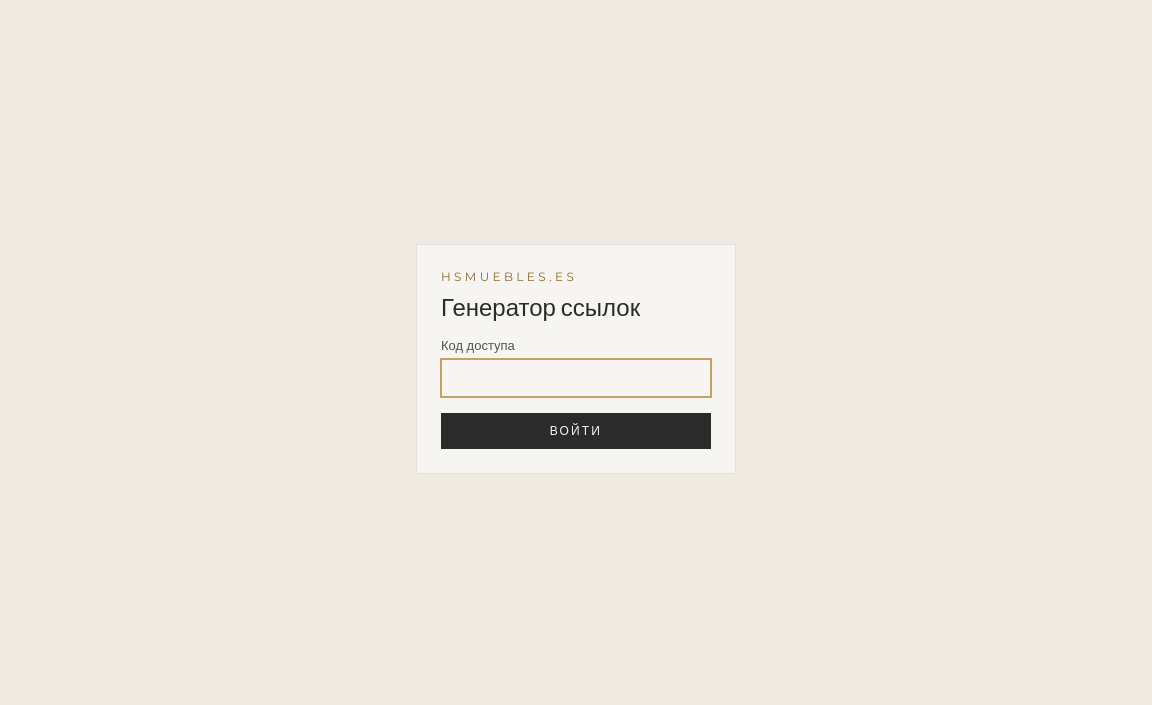
Scenario: UtmBuilder — код доступа › с верным кодом открывает генератор
Type "777111" into the password field labelled "Код доступа" at (576, 378), box [441, 359, 711, 397]
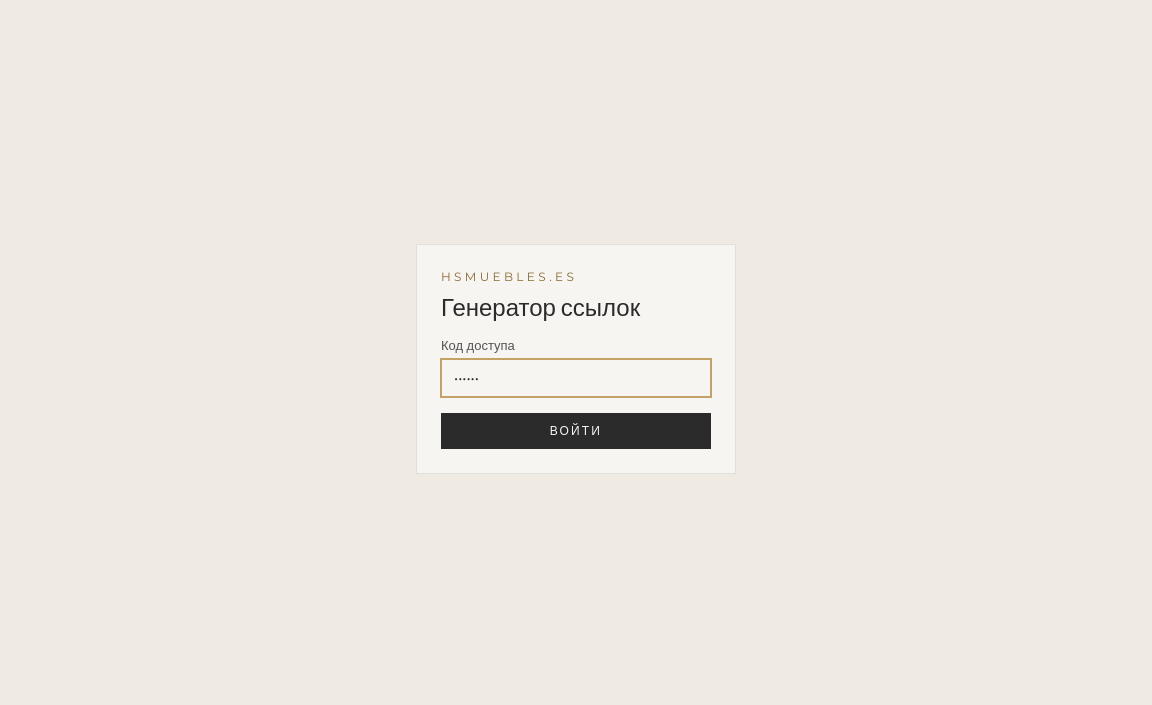
Click the button "Войти" at (576, 431), box [441, 413, 711, 449]
(page scrolled)
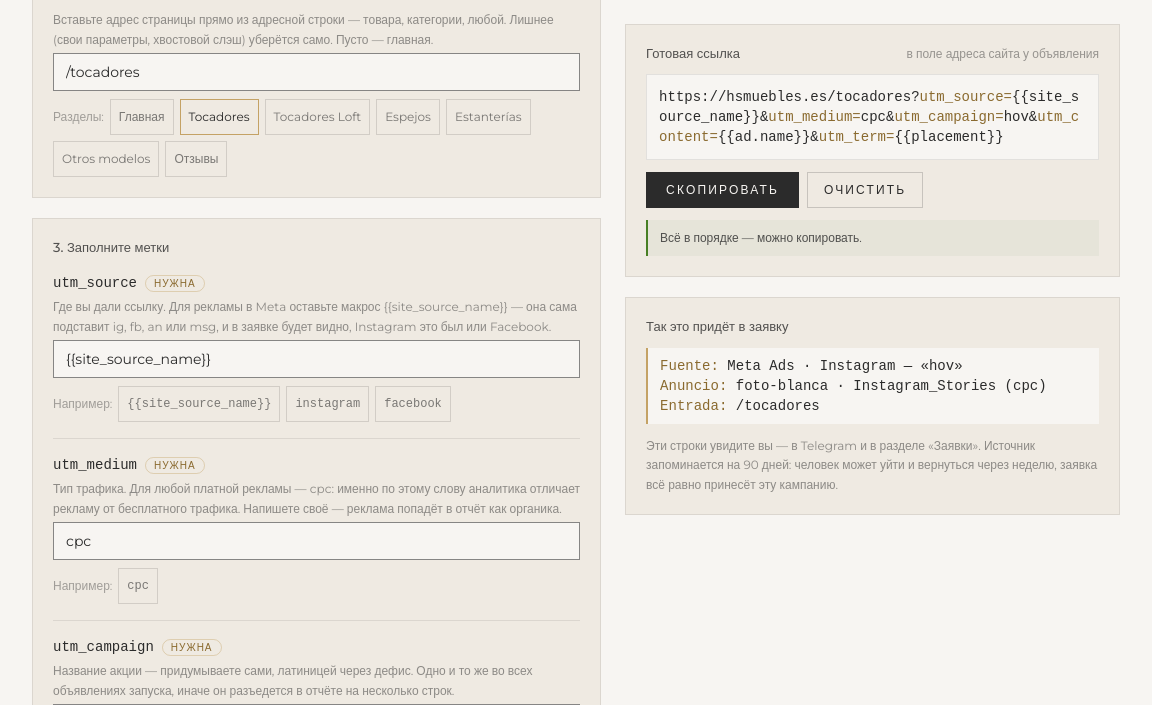
Result: the field labelled "utm_source" is shown at [53, 340, 580, 378]
Result: the text labelled "Код доступа" is gone
